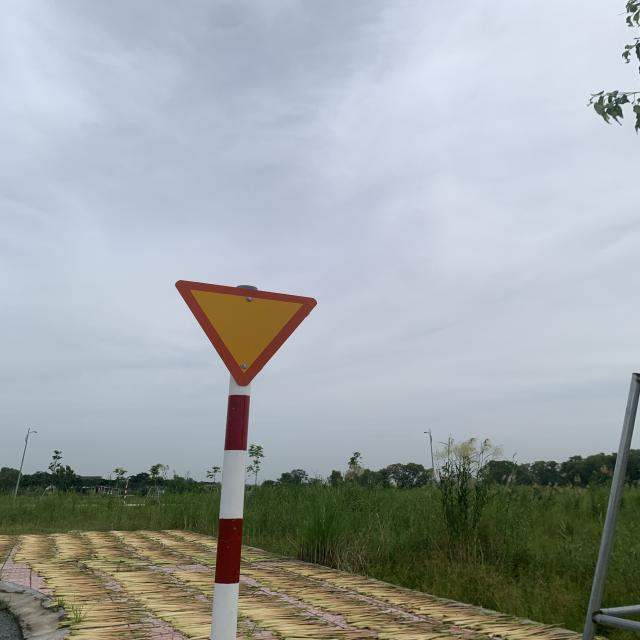Gioi_Han_Toc_Do_25: (176, 281, 317, 381)
